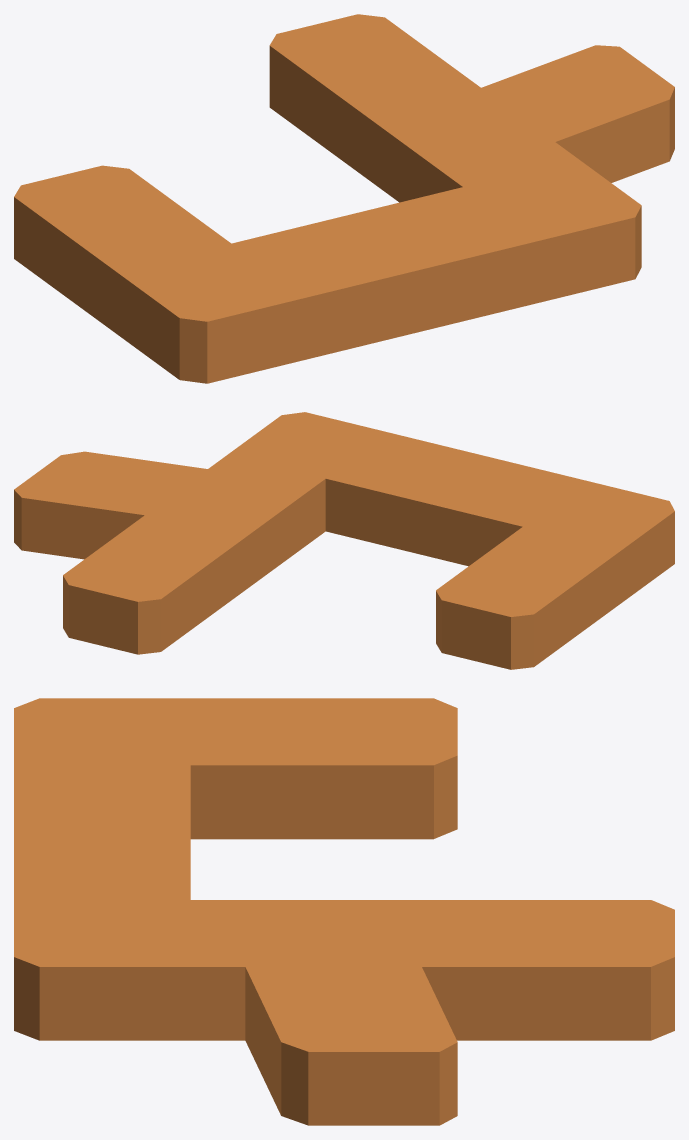
Rendered from Japanese_3D_01_う.FBX.
3 renders of one model, top to bottom at view 1: azimuth 30°, elevation 25°; view 2: azimuth 150°, elevation 25°; view 3: azimuth 270°, elevation 25°, orthographic. The views are drawn at different scales.
Parts seen in each view (by area): view 1: Japanese_3D_01_う; view 2: Japanese_3D_01_う; view 3: Japanese_3D_01_う.
Part boxes in pixels (<box>): Japanese_3D_01_う: <box>14,14,674,383</box>; Japanese_3D_01_う: <box>14,412,674,669</box>; Japanese_3D_01_う: <box>14,698,674,1125</box>.
Bounding box in the file's own units: 77.02 × 7.5 × 60.86.
